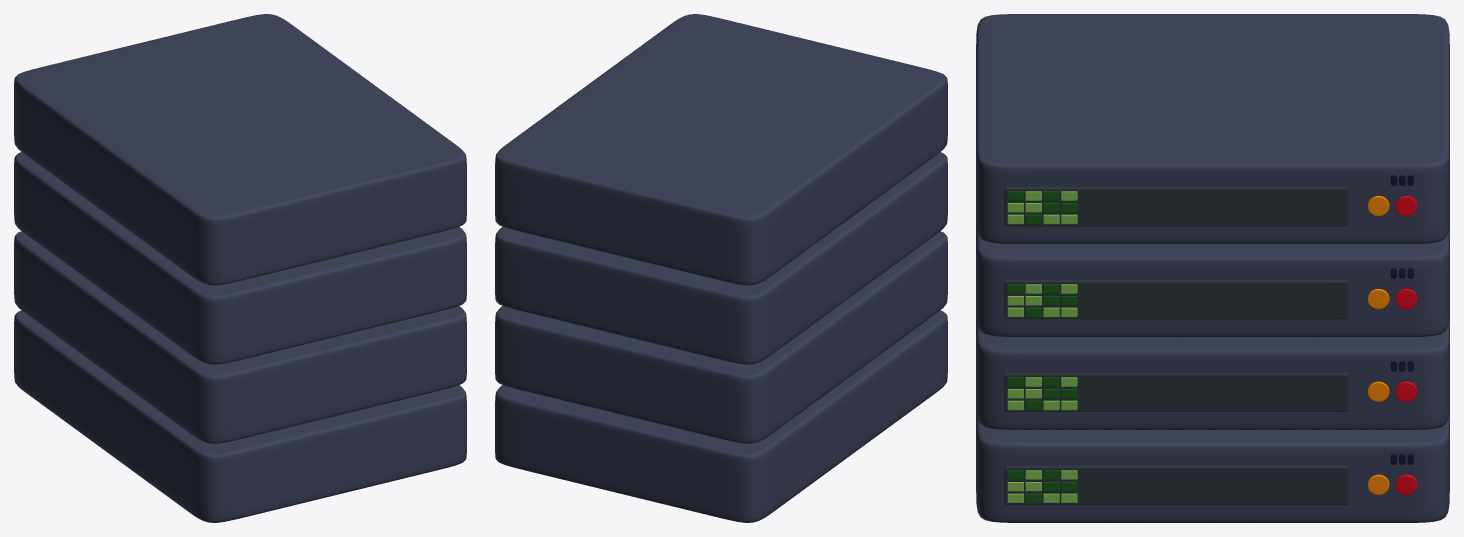
The model's file is Switch.glb.
3 renders of one model, left to right at view 1: azimuth 30°, elevation 25°; view 2: azimuth 150°, elevation 25°; view 3: azimuth 270°, elevation 25°, orthographic. The views are drawn at different scales.
Visible parts, largest first — view 1: Server 2.001; view 2: Server 2.001; view 3: Server 2.001.
Boxes of the visible parts, x1,y1,x2,y2 form: Server 2.001: (14, 14, 466, 522); Server 2.001: (495, 14, 947, 522); Server 2.001: (976, 14, 1449, 522).
Bounding box in the file's own units: 3.46 × 3.72 × 4.45.
